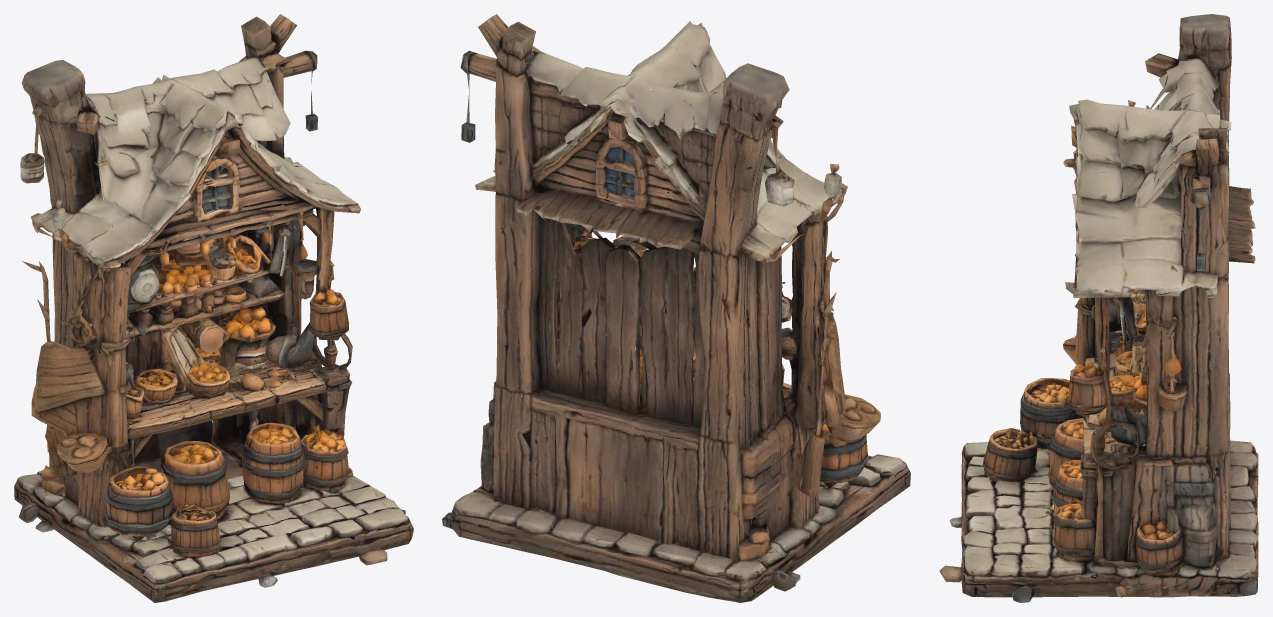
The model's file is lib_stall_timber.mid.glb.
3 views of the same model, side by side, from view 1: azimuth 30°, elevation 25°; view 2: azimuth 150°, elevation 25°; view 3: azimuth 270°, elevation 25° (orthographic). The views are drawn at different scales.
Size of the model in its own units: 1.39 by 1.9 by 1.19.
1 material, 1 textured.
